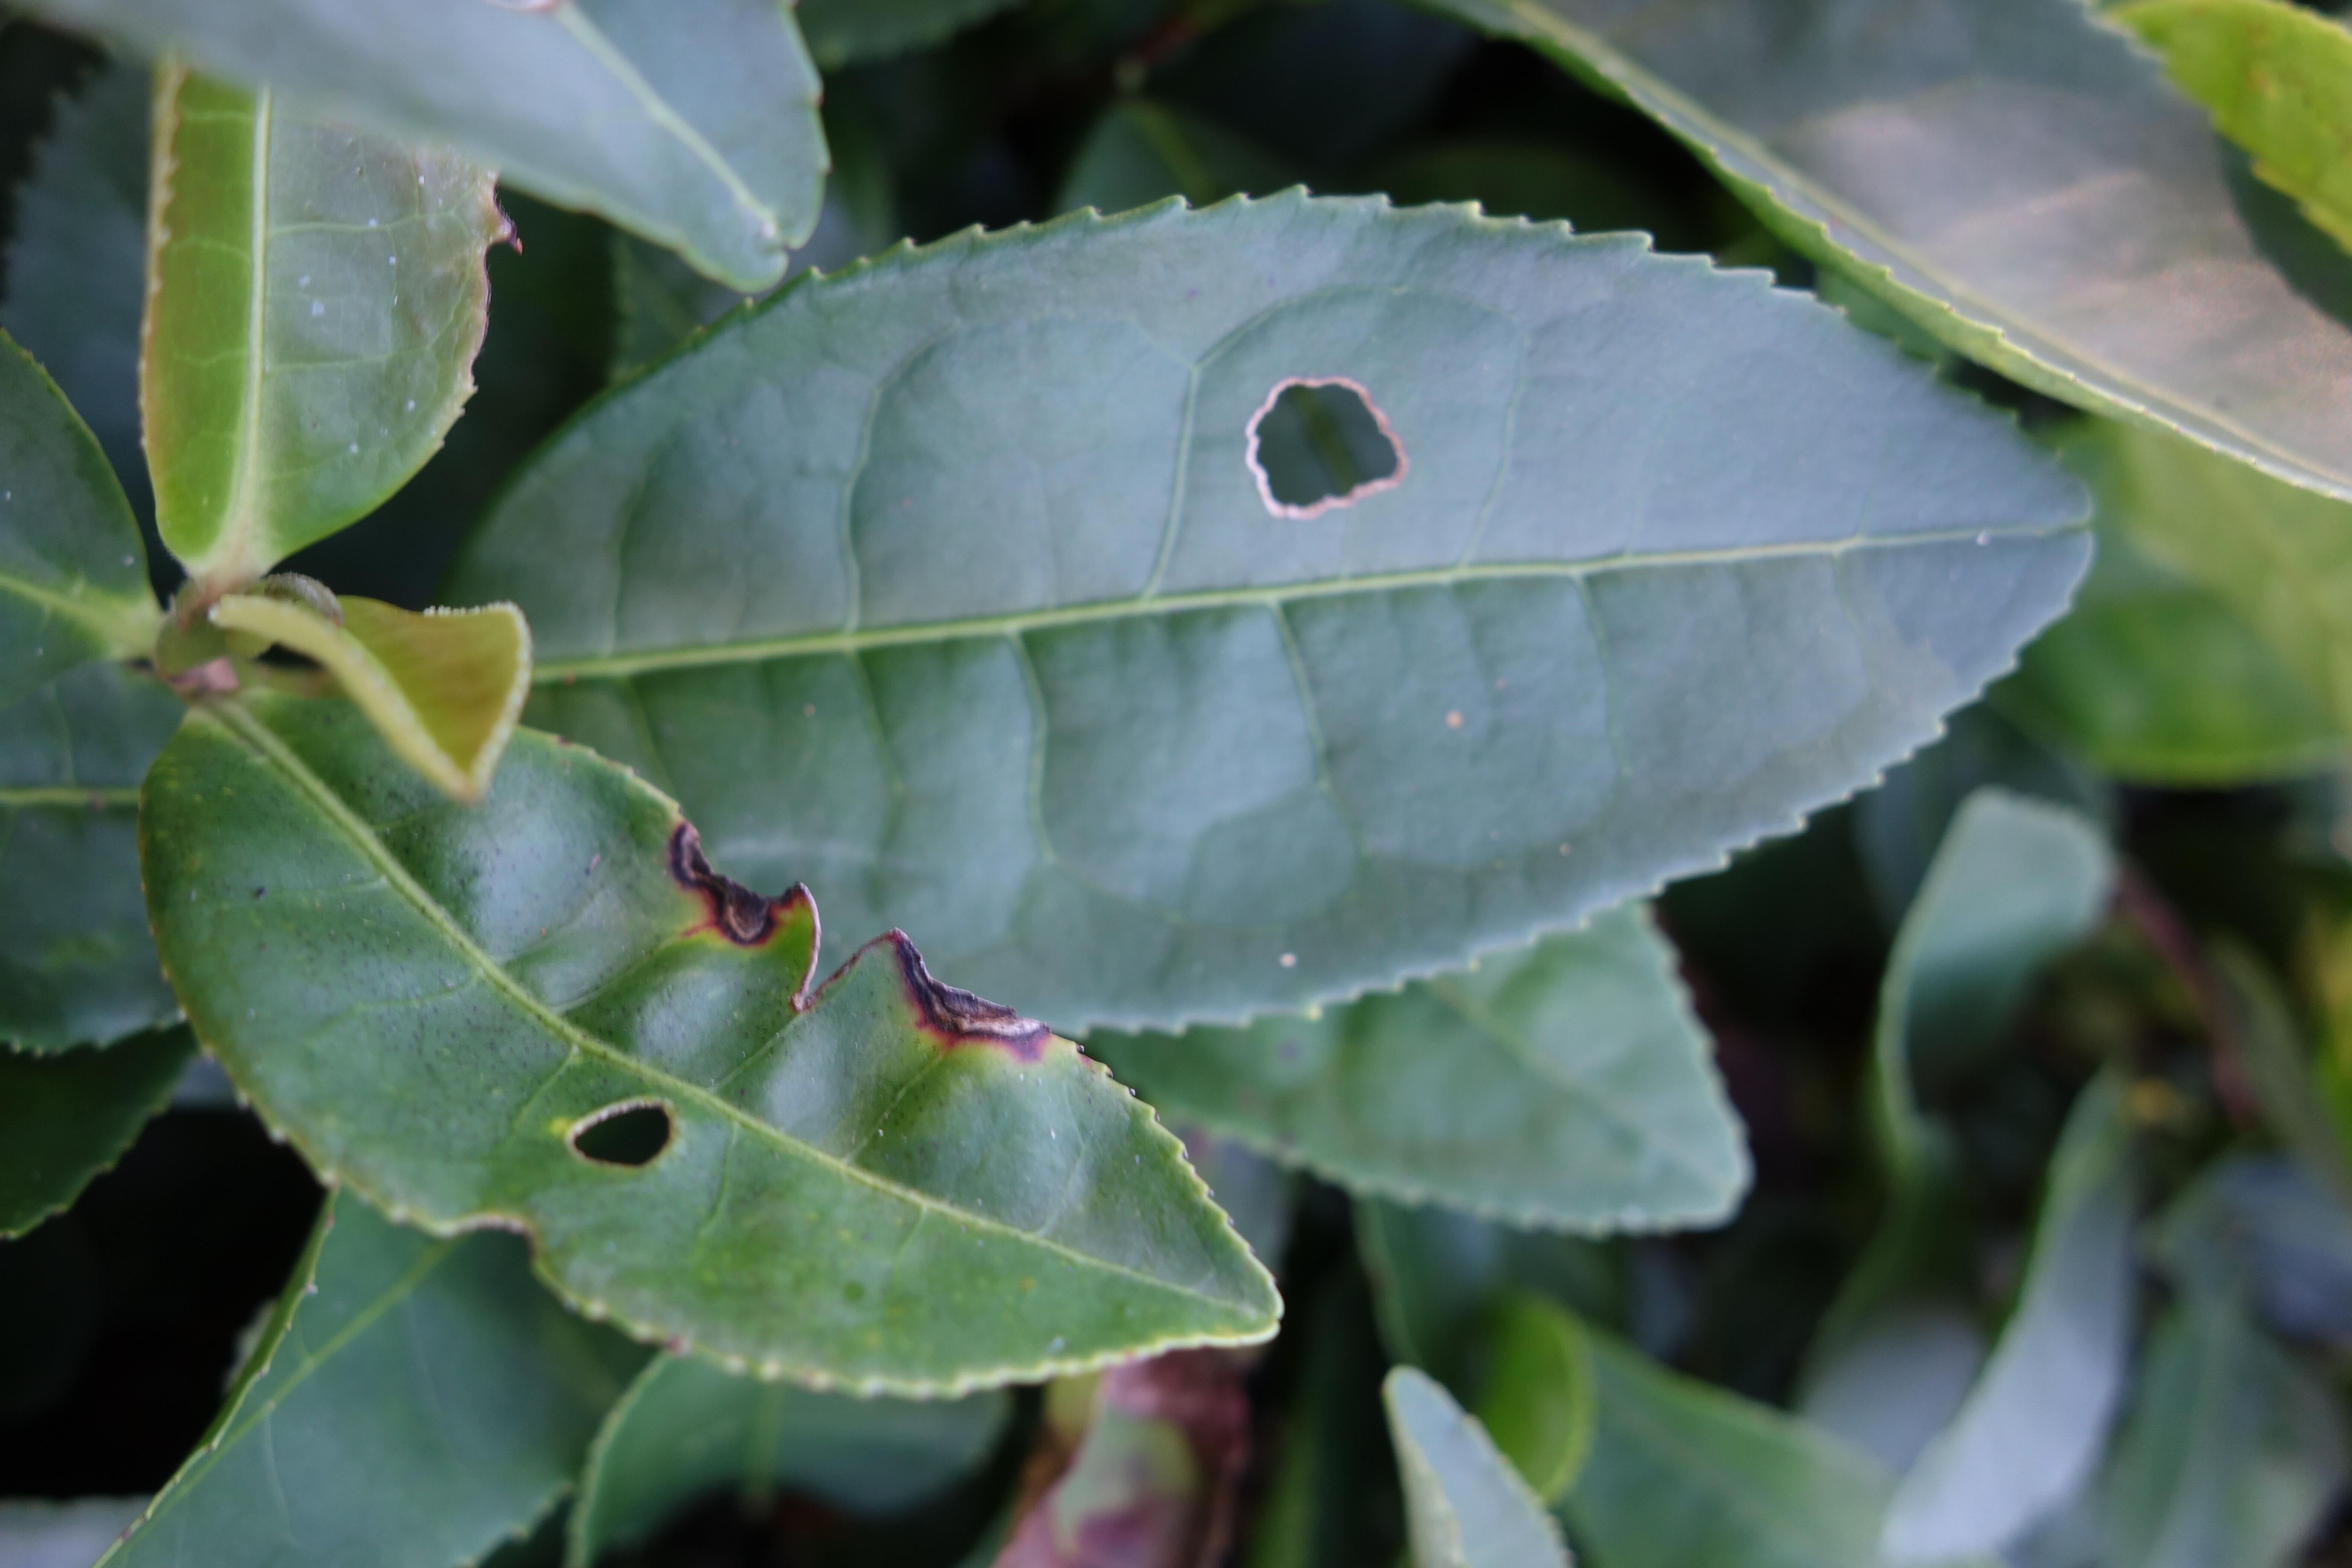chihuo_high: (145, 686, 1283, 1403)
chihuo_low: (460, 178, 2095, 1038)
tanju_low: (129, 52, 513, 576), (210, 579, 534, 800)
